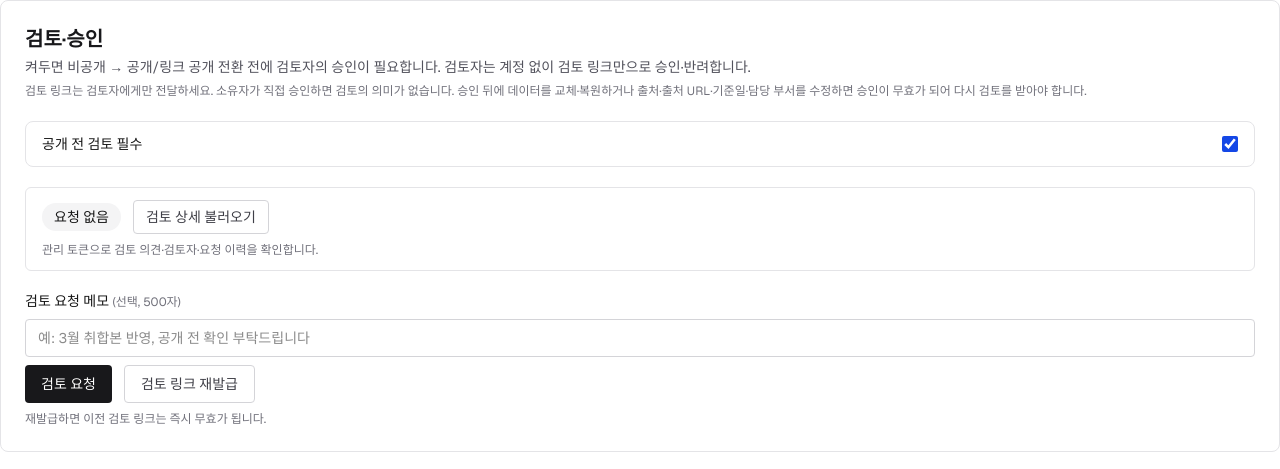
Test: ReviewSection › requesting a review posts the note and shows pending status
Click the button "검토 요청".
click(68, 384)  # box [25,365,112,403]
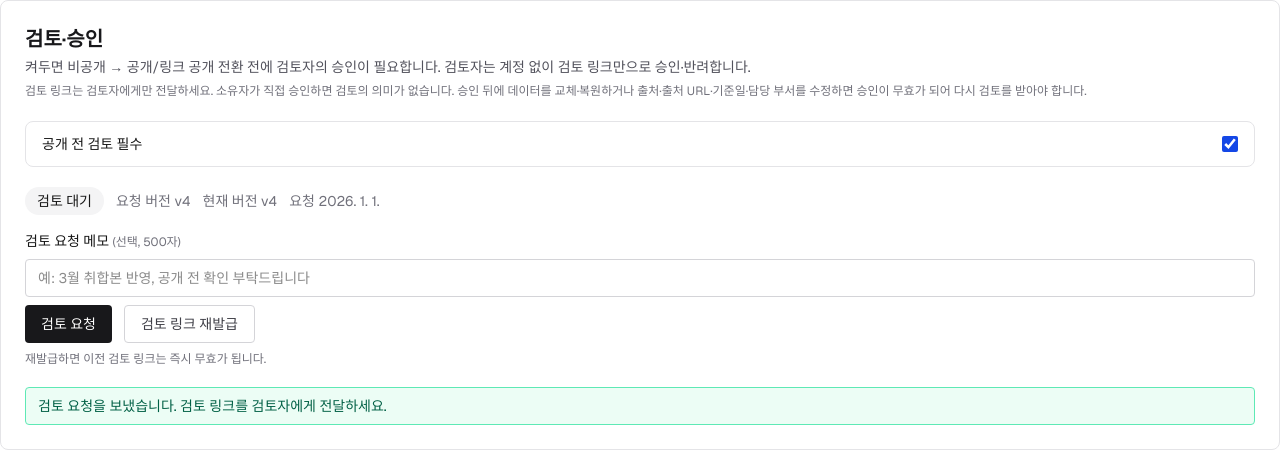
Expected: the text "검토 대기" is shown, [25,187,104,215]
Expected: the text "요청 버전 v4" is shown, [116,191,191,211]
Expected: the text "현재 버전 v4" is shown, [203,191,277,211]
